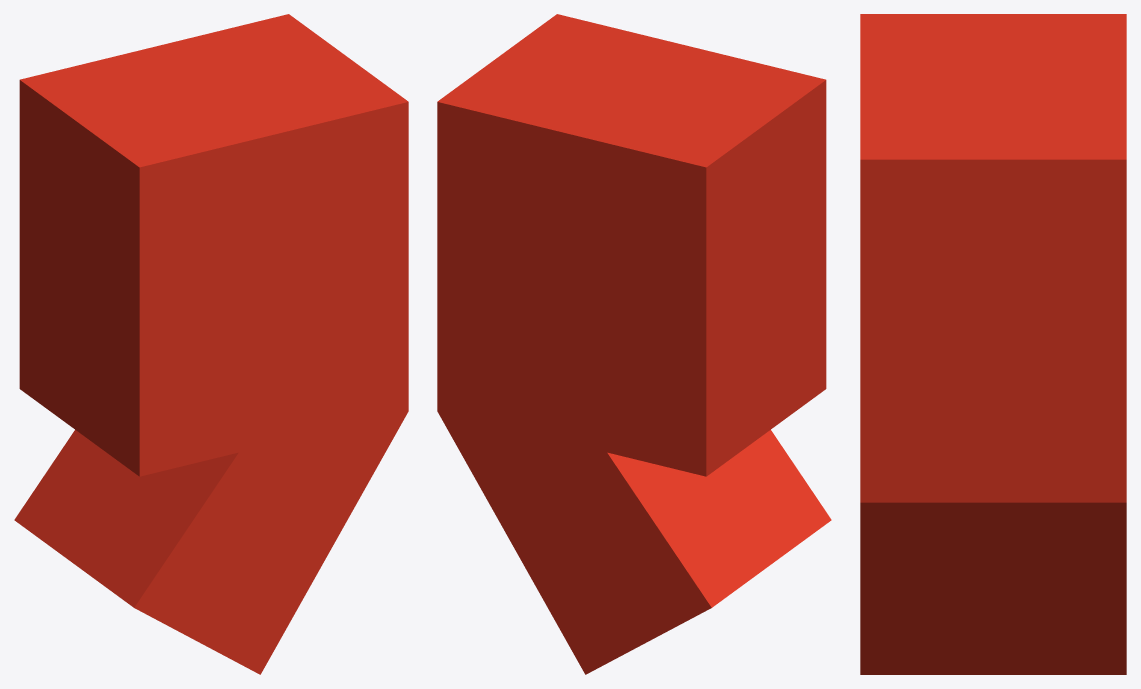
The model's file is Icon_Symbol_Quote_01.fbx.
The picture shows the model from 3 angles, left to right: view 1: azimuth 30°, elevation 25°; view 2: azimuth 150°, elevation 25°; view 3: azimuth 270°, elevation 25°; orthographic projection. The views are drawn at different scales.
Parts seen in each view (by area): view 1: Icon_Symbol_Quote_01; view 2: Icon_Symbol_Quote_01; view 3: Icon_Symbol_Quote_01.
Part boxes in pixels (bbox=[...]): Icon_Symbol_Quote_01: bbox=[14, 14, 408, 674]; Icon_Symbol_Quote_01: bbox=[437, 14, 831, 674]; Icon_Symbol_Quote_01: bbox=[860, 14, 1126, 674].
Bounding box in the file's own units: 15.95 × 29.79 × 12.06.
